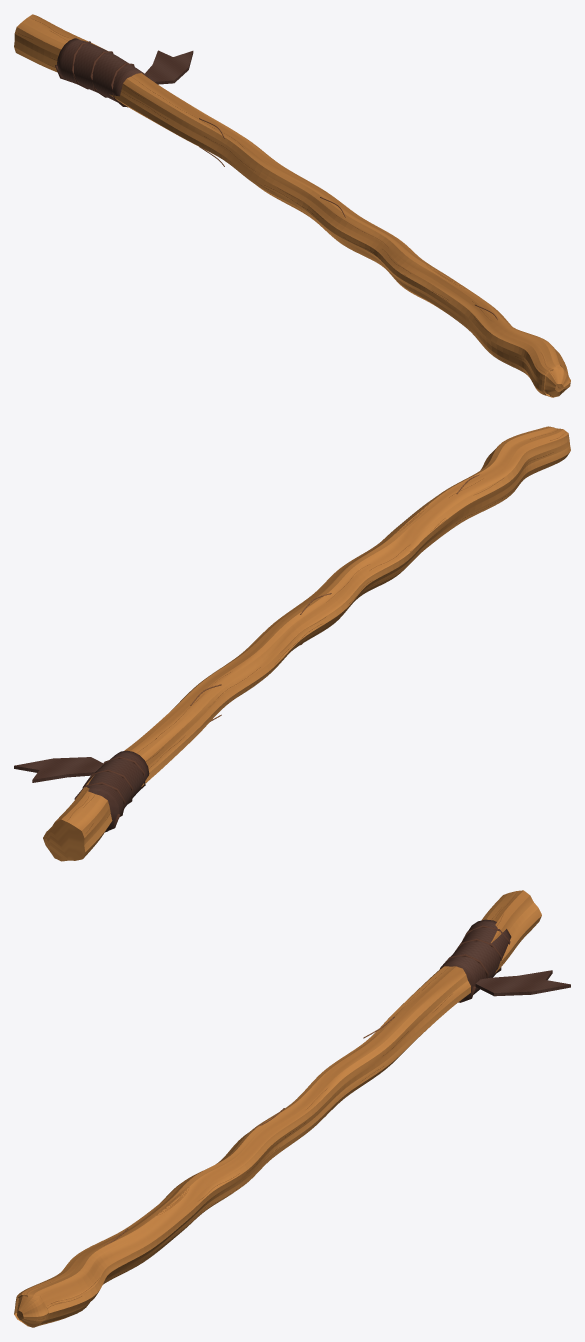
The model's file is apprentice_staff.glb.
3 renders of one model, top to bottom at view 1: azimuth 30°, elevation 25°; view 2: azimuth 150°, elevation 25°; view 3: azimuth 330°, elevation 25°, orthographic. The views are drawn at different scales.
Parts seen in each view (by area): view 1: apprentice_staff_game_mesh; view 2: apprentice_staff_game_mesh; view 3: apprentice_staff_game_mesh.
Boxes of the visible parts, x1=… form: apprentice_staff_game_mesh: x1=14, y1=14, x2=570, y2=397; apprentice_staff_game_mesh: x1=14, y1=426, x2=570, y2=861; apprentice_staff_game_mesh: x1=14, y1=890, x2=570, y2=1327.
Bounding box in the file's own units: 0.2204 × 0.0721 × 1.55.
Materials: 1 (1 with a texture image).
